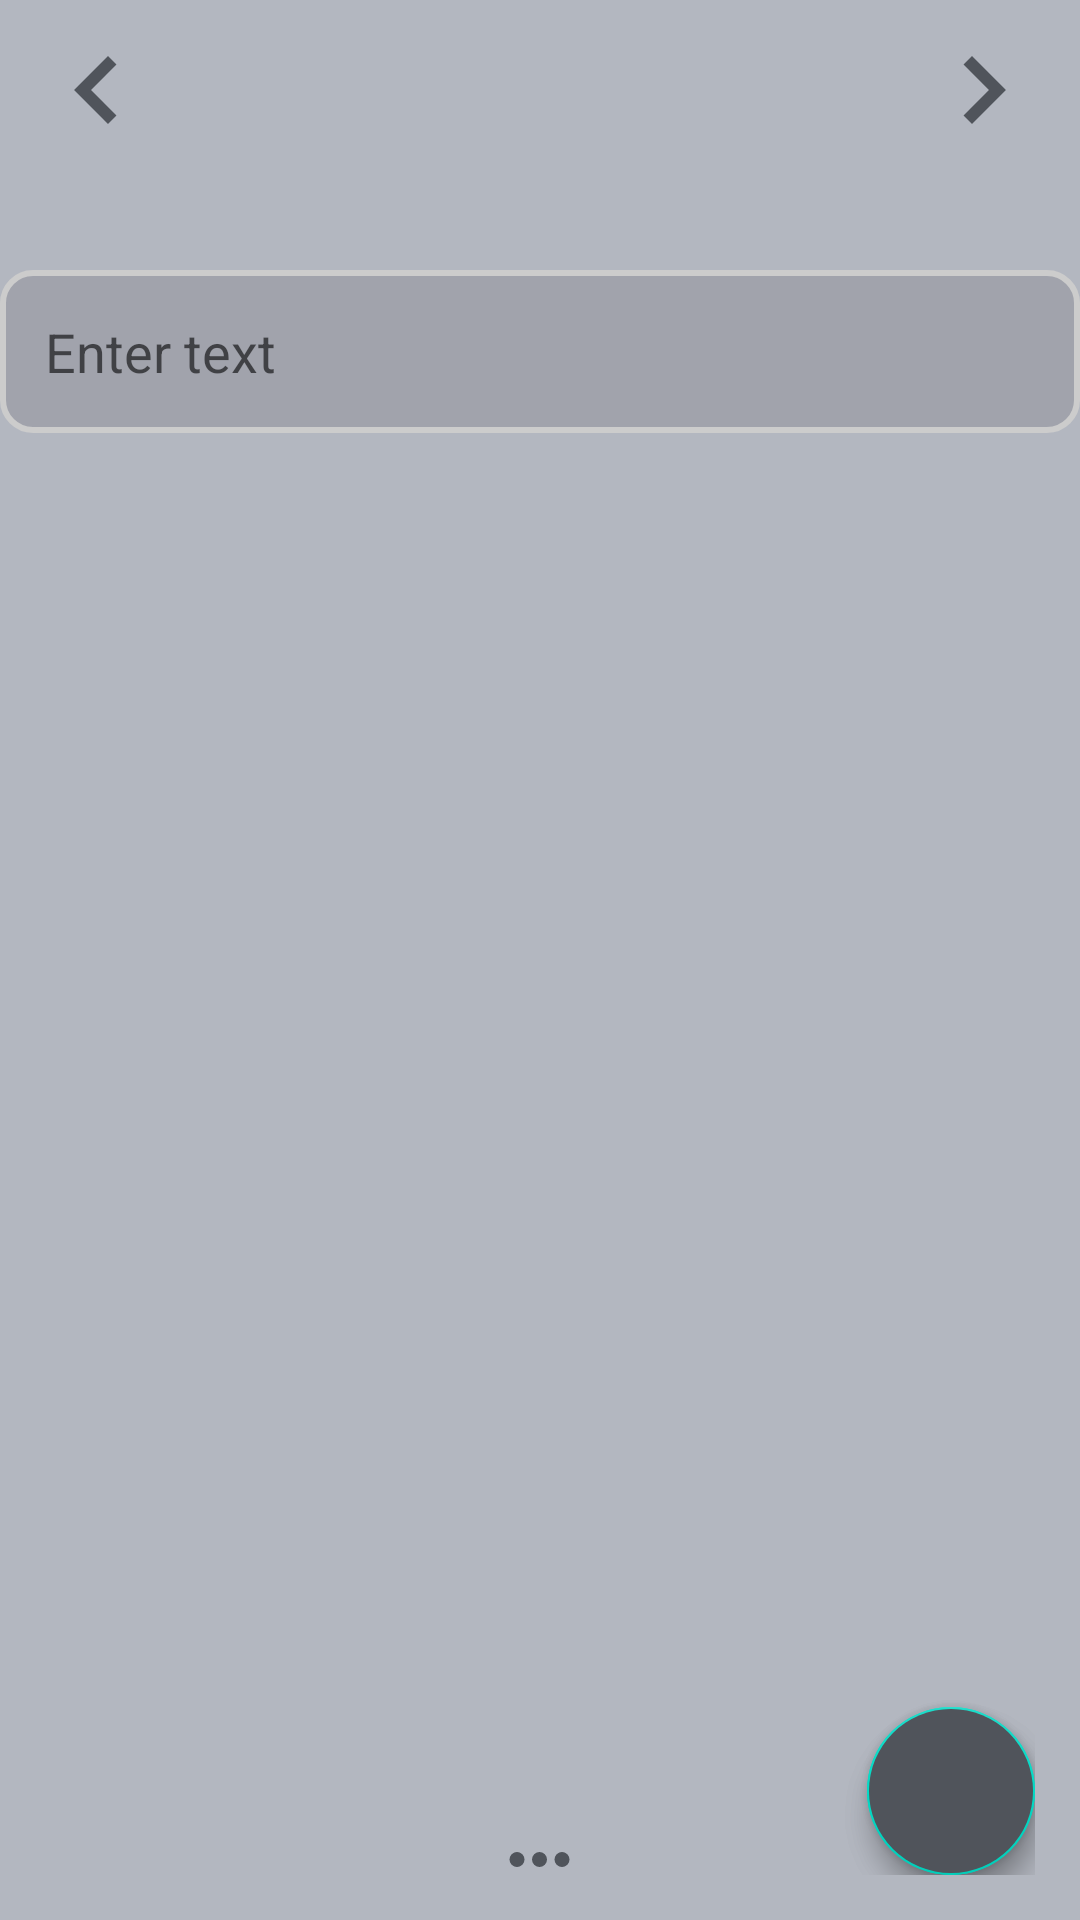

Icon click points for this 1080px x 1920px phone screenshot, format (x=x, y=y):
navigation more: (x=539, y=1859)
